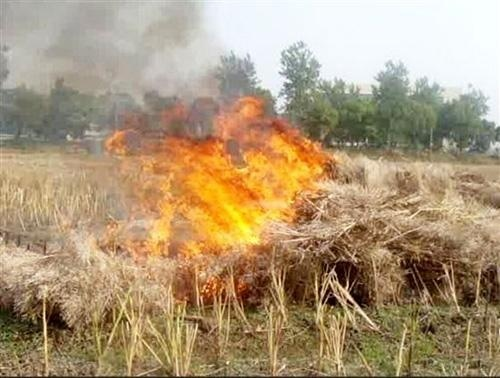fire: (97, 87, 336, 266)
